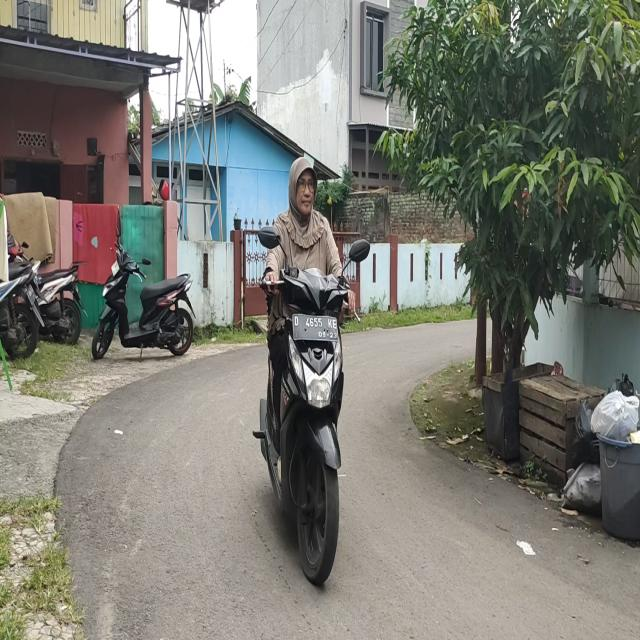no-helmet: (288, 156, 317, 218)
